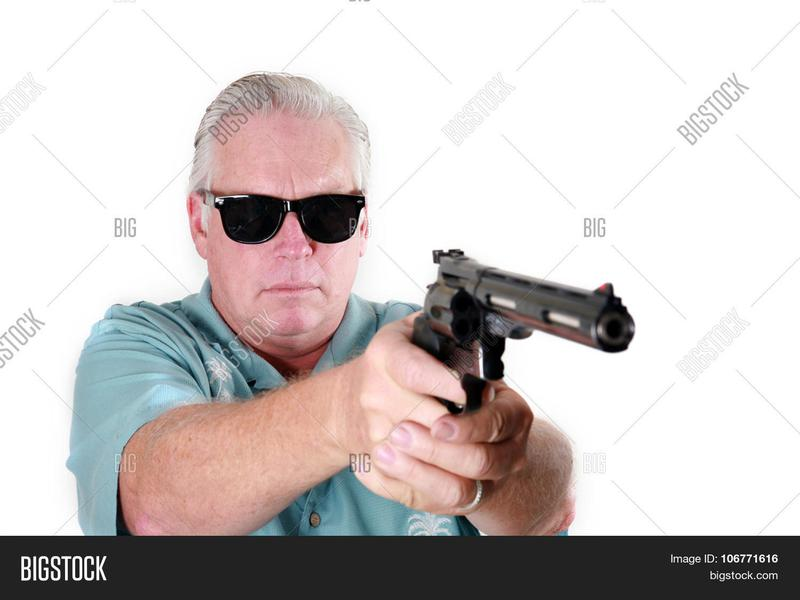Revolver: (402, 227, 647, 431)
